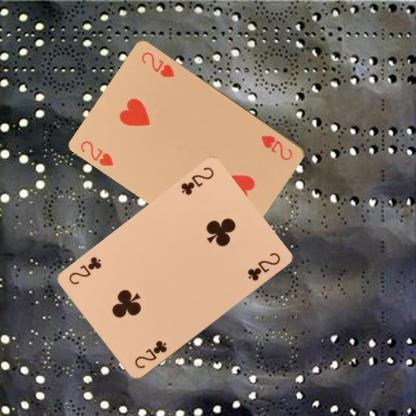2c: (178, 165, 215, 197), (132, 338, 168, 370)
2h: (78, 138, 116, 167), (259, 132, 295, 162)
